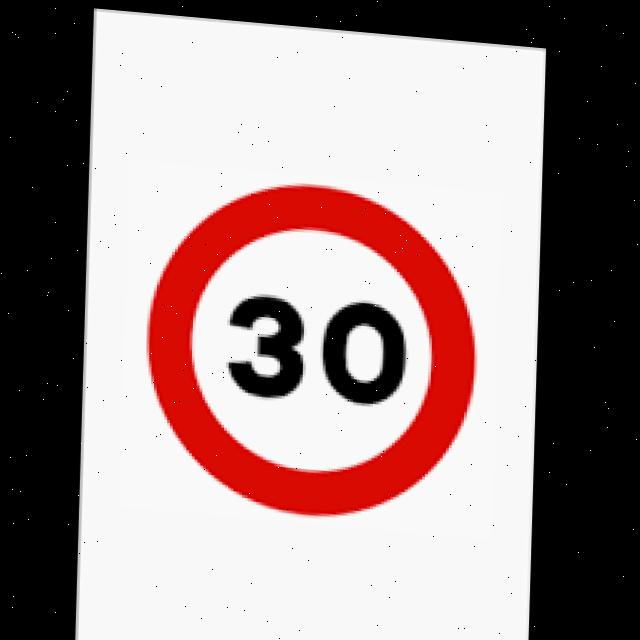Speed limit 30: (143, 163, 487, 524)
